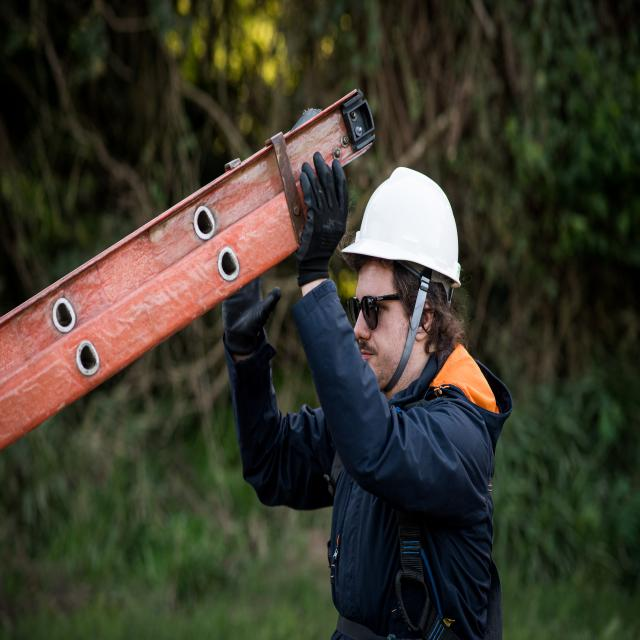capacete: (340, 164, 464, 292)
luva: (294, 148, 351, 290)
